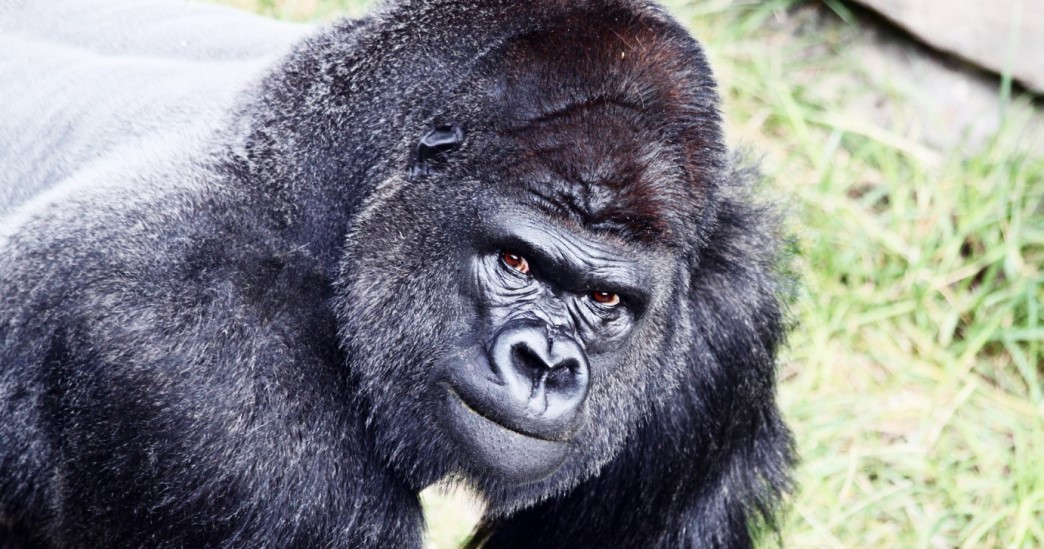Gorilla: (39, 7, 813, 537)
